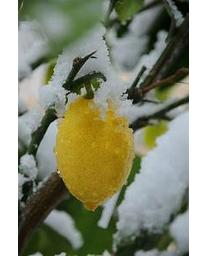lemon: (58, 94, 134, 211)
